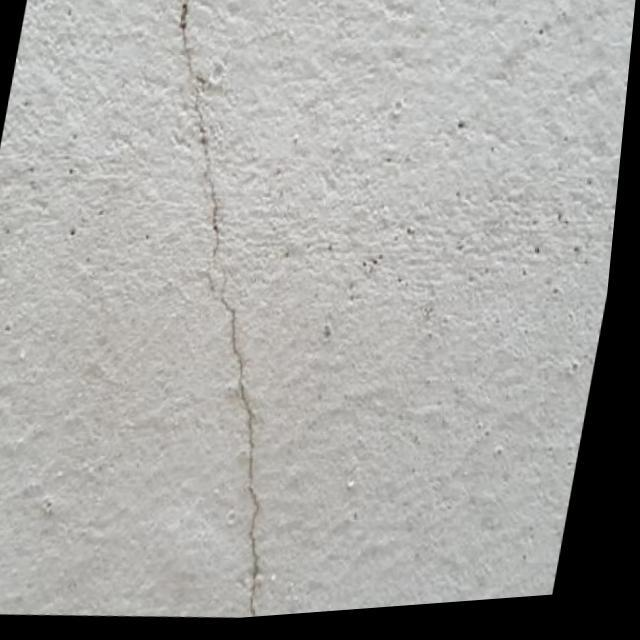Crack: (156, 2, 278, 610)
